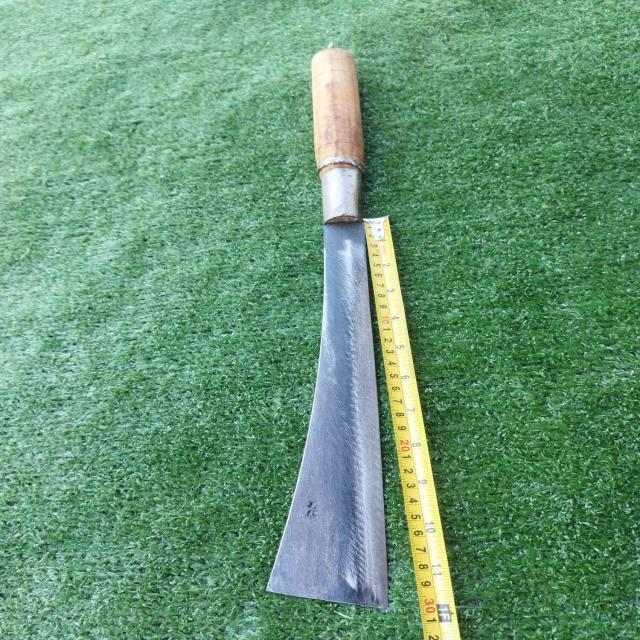eto: (246, 38, 398, 622)
